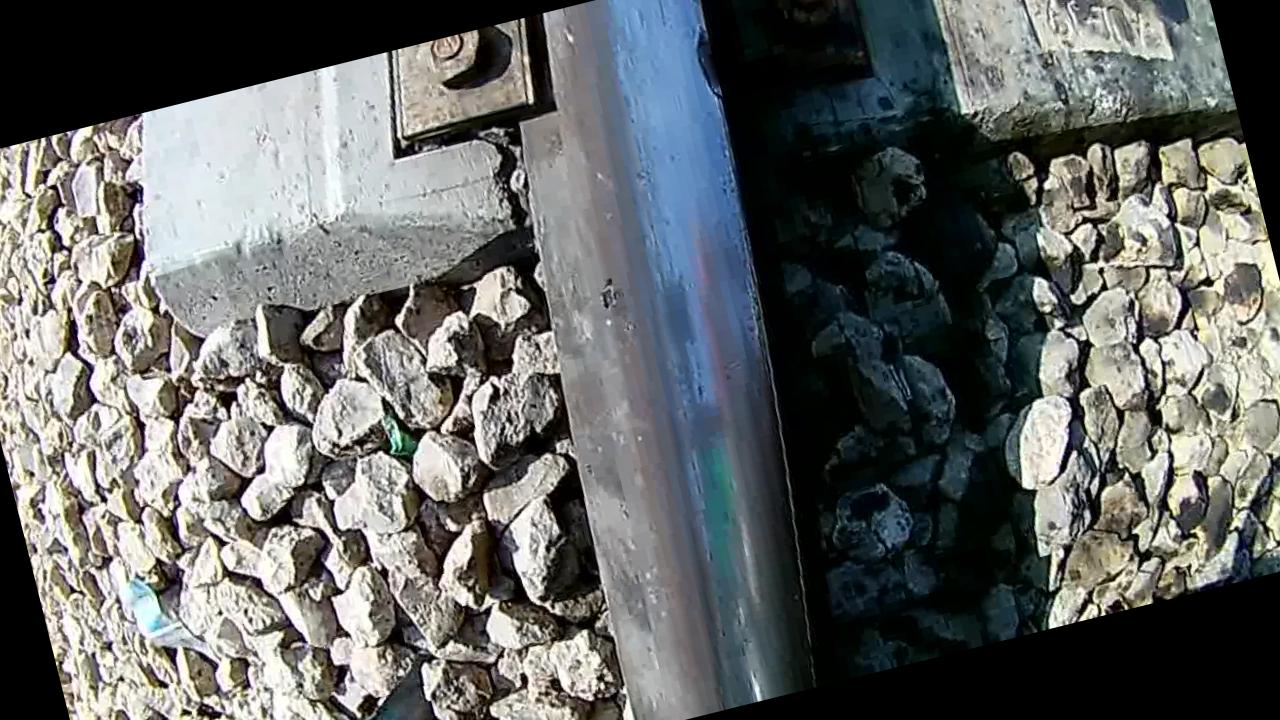crack: (654, 1, 742, 114)
